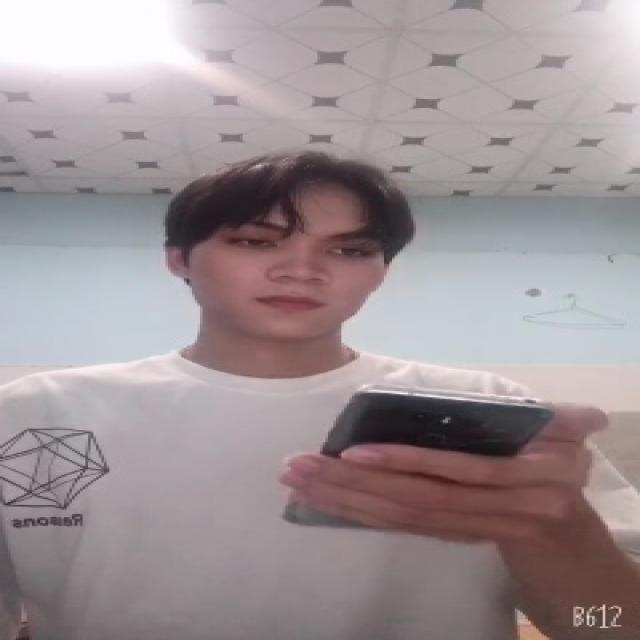Phone: (275, 381, 553, 540)
